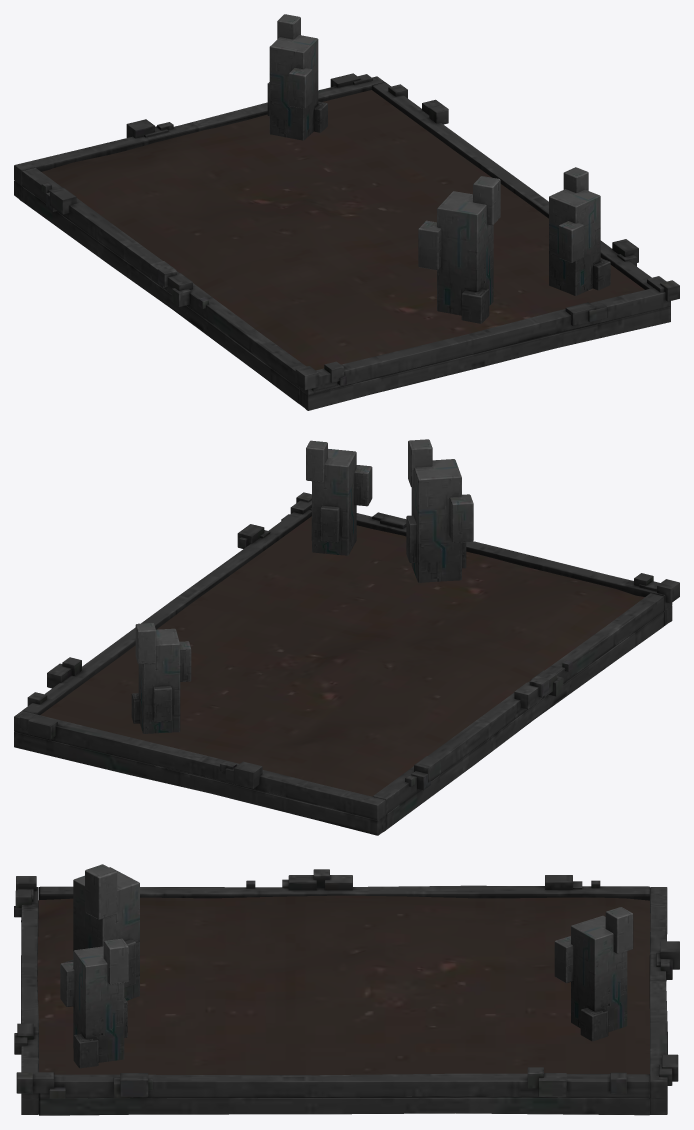
The model's file is SM_LoggingcampAncient_Fence_257bfd.glb.
The picture shows the model from 3 angles, top to bottom: view 1: azimuth 30°, elevation 25°; view 2: azimuth 150°, elevation 25°; view 3: azimuth 270°, elevation 25°; orthographic projection. The views are drawn at different scales.
Bounding box in the file's own units: 4.95 × 1.85 × 6.72.
3 materials, 3 textured.
